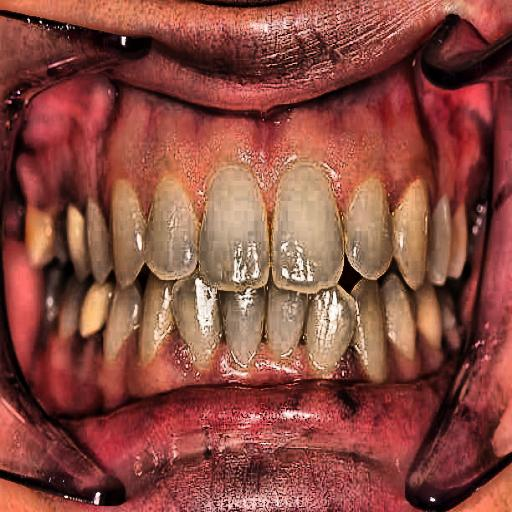Gingivitis: (72, 88, 438, 204), (46, 322, 217, 413)
